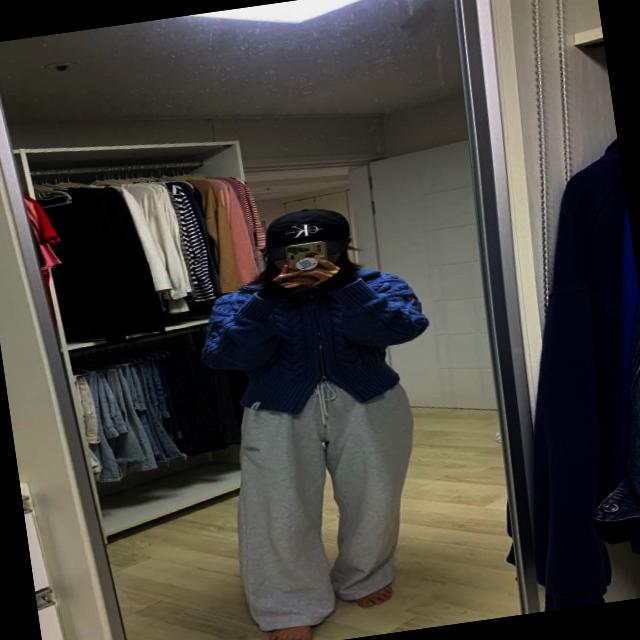cardigan: (192, 252, 438, 428)
trainingpants: (215, 366, 436, 634)
